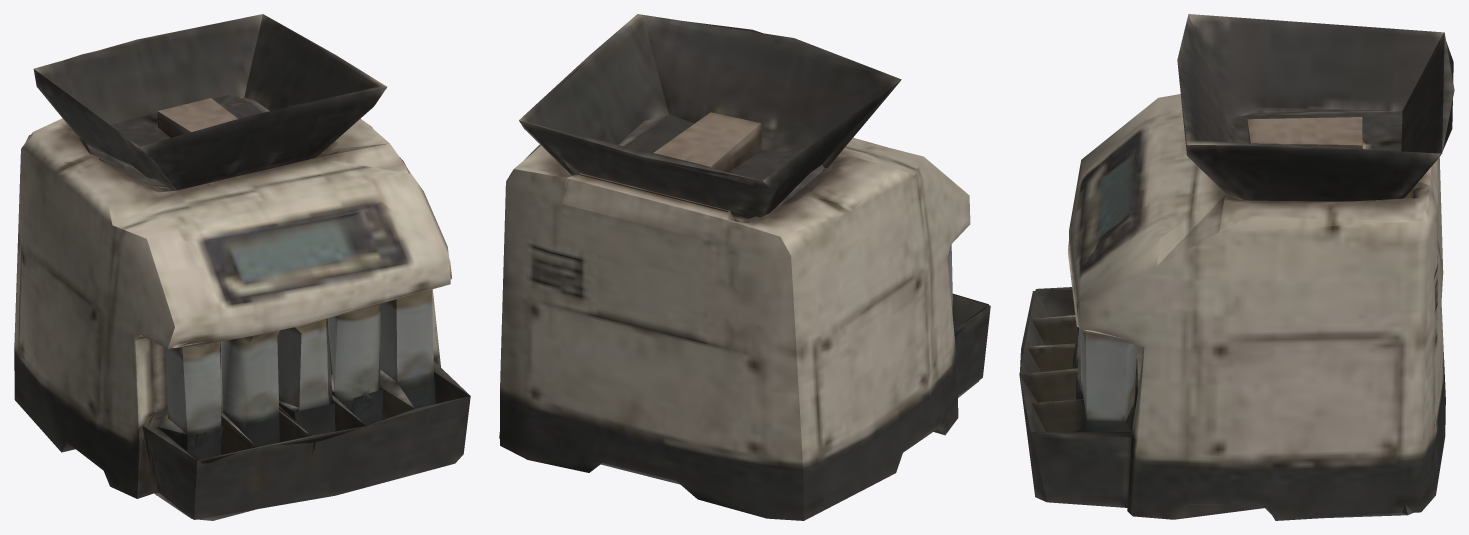
Rendered from p7-coin-counter.glb.
The picture shows the model from 3 angles, left to right: view 1: azimuth 30°, elevation 25°; view 2: azimuth 150°, elevation 25°; view 3: azimuth 270°, elevation 25°; orthographic projection. The views are drawn at different scales.
Parts seen in each view (by area): view 1: p7-coin-counter; view 2: p7-coin-counter; view 3: p7-coin-counter.
Boxes of the visible parts, x1,y1,x2,y2 form: p7-coin-counter: (14,14,470,520); p7-coin-counter: (499,14,990,520); p7-coin-counter: (1019,14,1454,520).
Bounding box in the file's own units: 0.3434 × 0.35 × 0.3691.
1 material, 1 textured.
